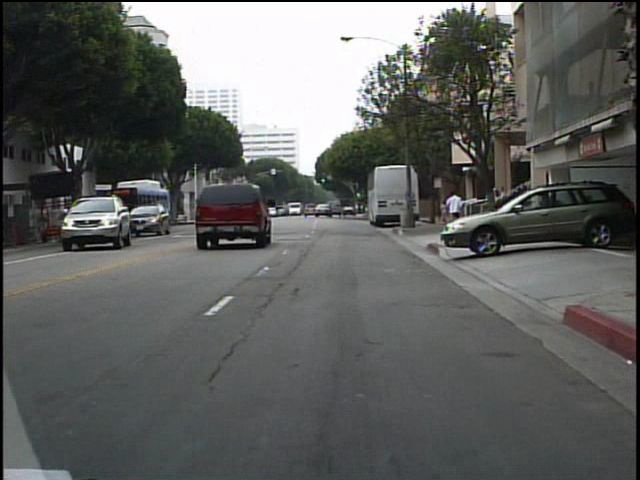person: (443, 188, 464, 236)
